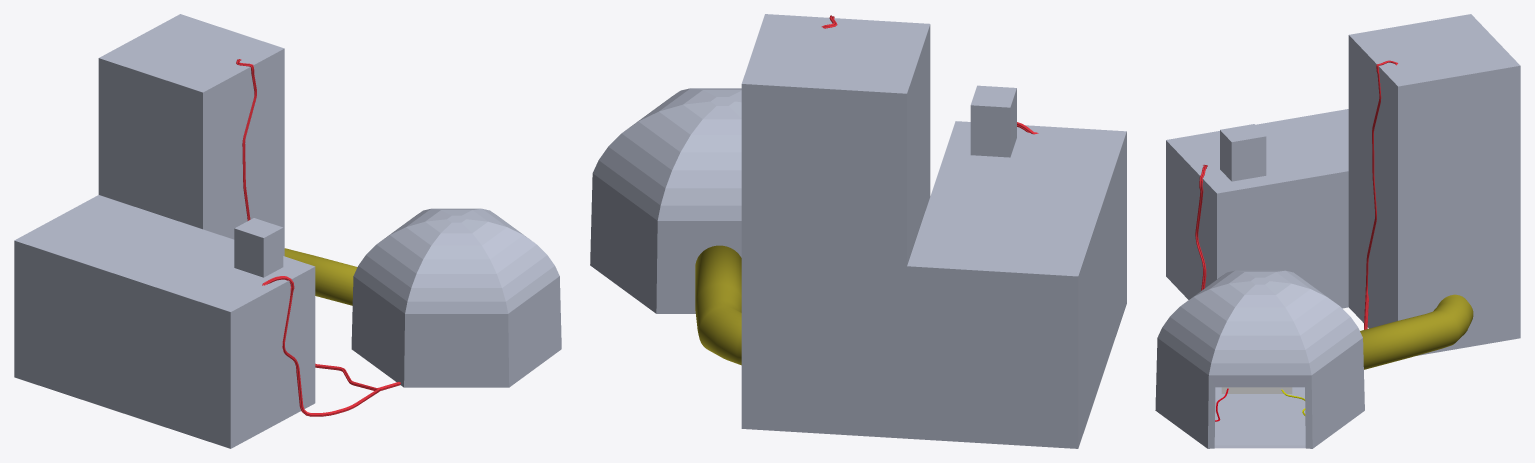
The model's file is home.fbx.
The picture shows the model from 3 angles, left to right: view 1: azimuth 30°, elevation 25°; view 2: azimuth 150°, elevation 25°; view 3: azimuth 270°, elevation 25°; orthographic projection. The views are drawn at different scales.
Visible parts, largest first — view 1: baseprodfac, base, baseprodtube1, basetube; view 2: baseprodfac, base, basetube; view 3: baseprodfac, base, basetube, baseprodtube1, Cube.005.
Part boxes in pixels (x1,y1,x2,y2): baseprodfac: (14, 14, 315, 448); base: (351, 208, 561, 387); baseprodtube1: (236, 59, 400, 416); basetube: (284, 248, 357, 305); baseprodfac: (741, 14, 1126, 448); base: (590, 88, 741, 313); basetube: (695, 245, 741, 365); baseprodfac: (1166, 14, 1520, 355); base: (1155, 270, 1364, 448); basetube: (1360, 294, 1473, 369); baseprodtube1: (1195, 60, 1397, 329); Cube.005: (1221, 387, 1292, 393).
Size of the model in its own units: 4591 by 2762 by 3302.
